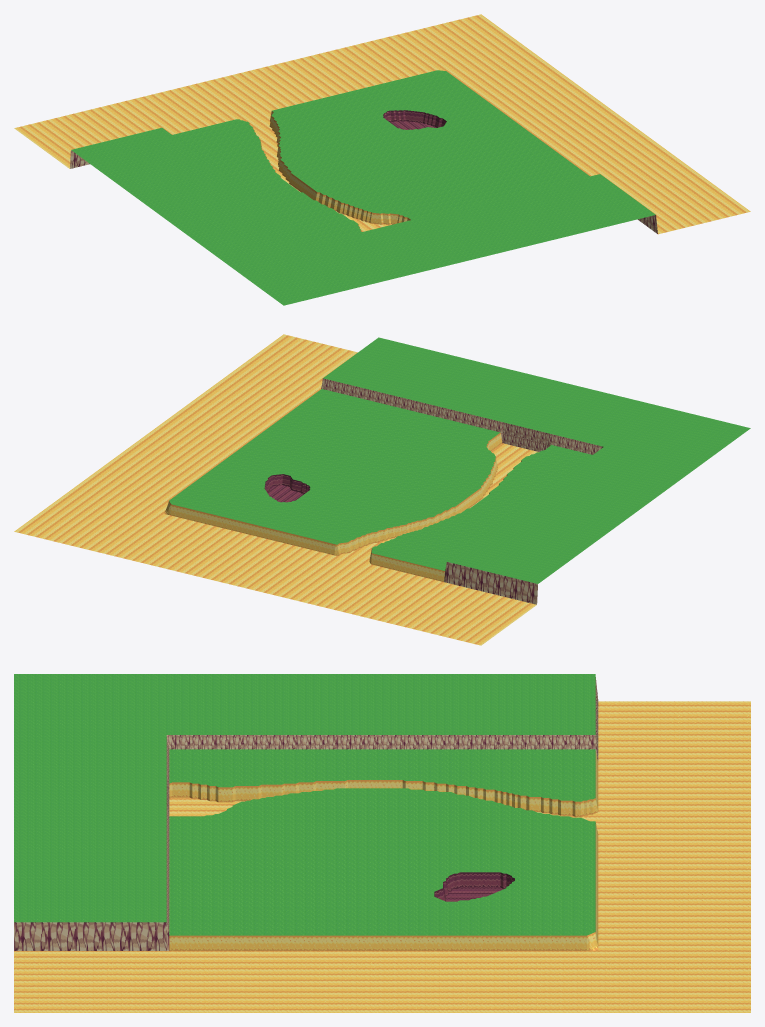
Rendered from terrain.fbx.
3 renders of one model, top to bottom at view 1: azimuth 30°, elevation 25°; view 2: azimuth 150°, elevation 25°; view 3: azimuth 270°, elevation 25°, orthographic. The views are drawn at different scales.
Visible parts, largest first — view 1: terrainmesh; view 2: terrainmesh; view 3: terrainmesh.
Boxes of the visible parts, x1=… form: terrainmesh: x1=14, y1=14, x2=750, y2=305; terrainmesh: x1=14, y1=334, x2=750, y2=645; terrainmesh: x1=14, y1=674, x2=750, y2=1012.
Size of the model in its own units: 4996 by 204 by 4996.
